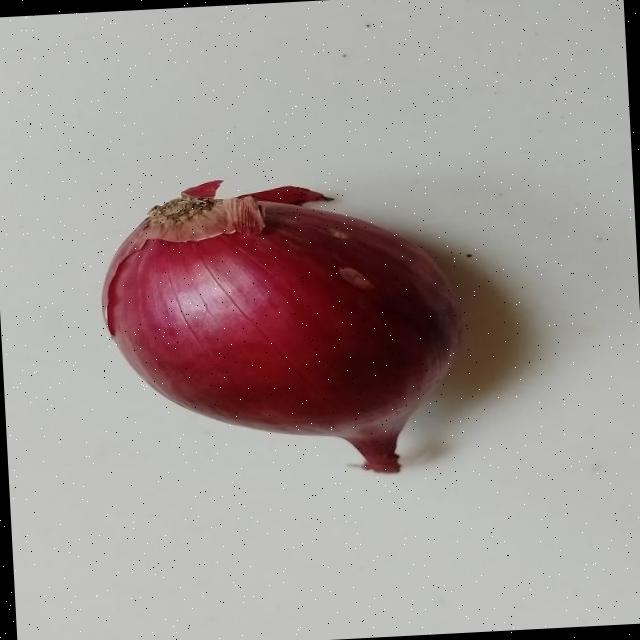Onion: (101, 195, 457, 471)
